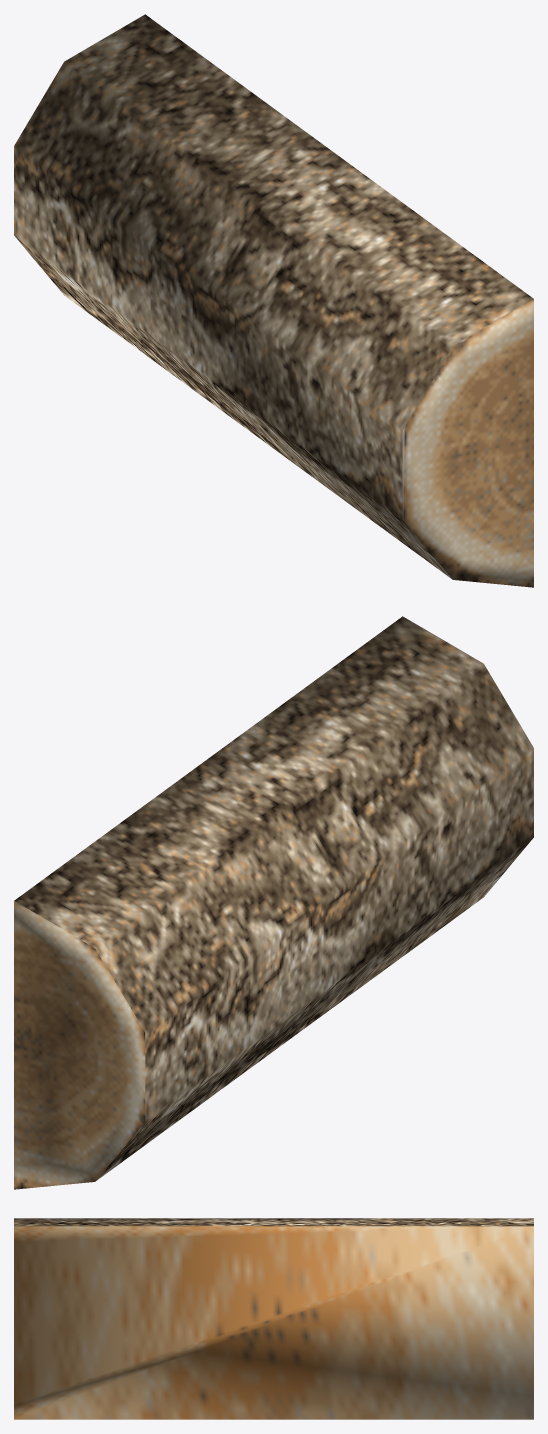
The model's file is saunalogchopped.fbx.
3 renders of one model, top to bottom at view 1: azimuth 30°, elevation 25°; view 2: azimuth 150°, elevation 25°; view 3: azimuth 270°, elevation 25°, orthographic. The views are drawn at different scales.
Parts seen in each view (by area): view 1: Cylinder; view 2: Cylinder; view 3: Cylinder.
Part boxes in pixels (<box>): Cylinder: <box>14,14,533,587</box>; Cylinder: <box>14,616,533,1189</box>; Cylinder: <box>14,1218,533,1419</box>.
Size of the model in its own units: 95.11 by 200 by 488.
Materials: 1 (1 with a texture image).
